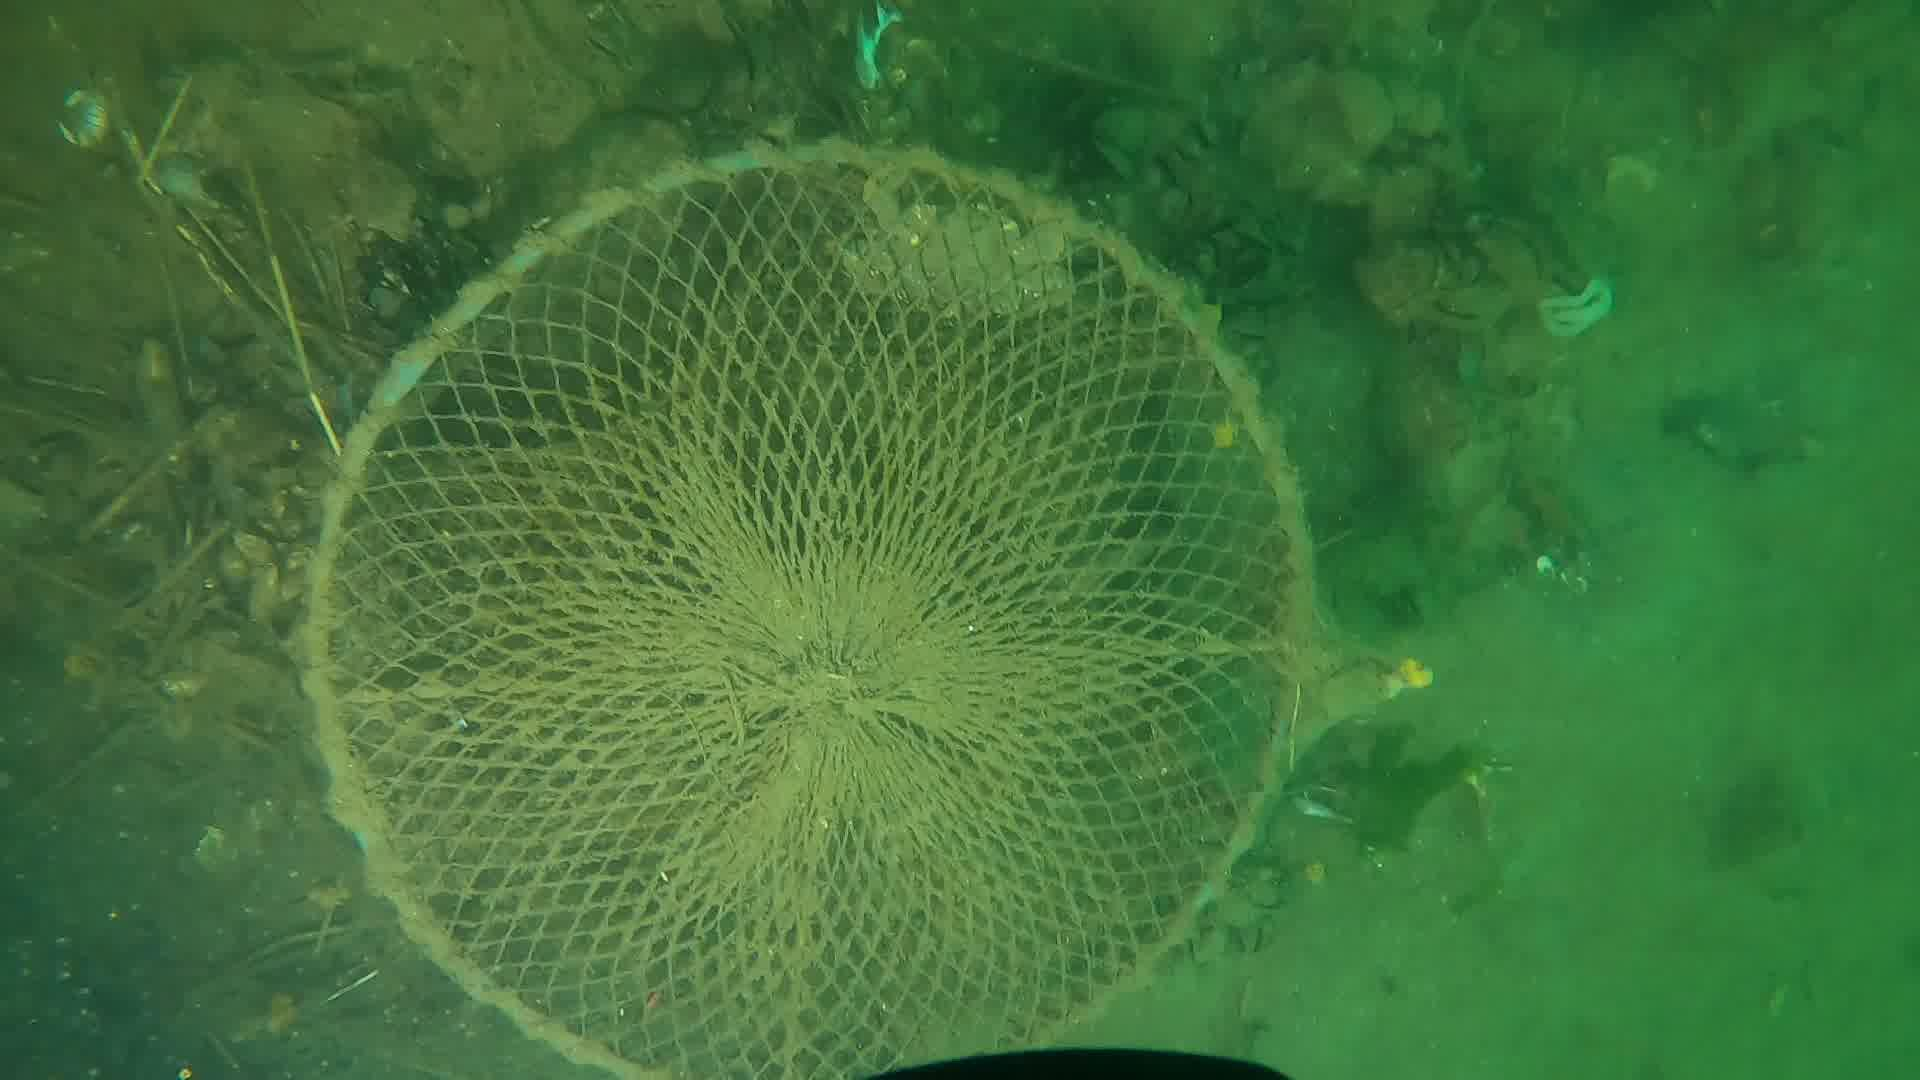circular fish trap: (295, 127, 1329, 1080)
